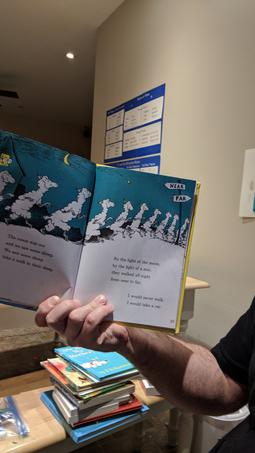text block: (1, 227, 61, 274), (104, 252, 167, 289), (124, 288, 166, 312)
